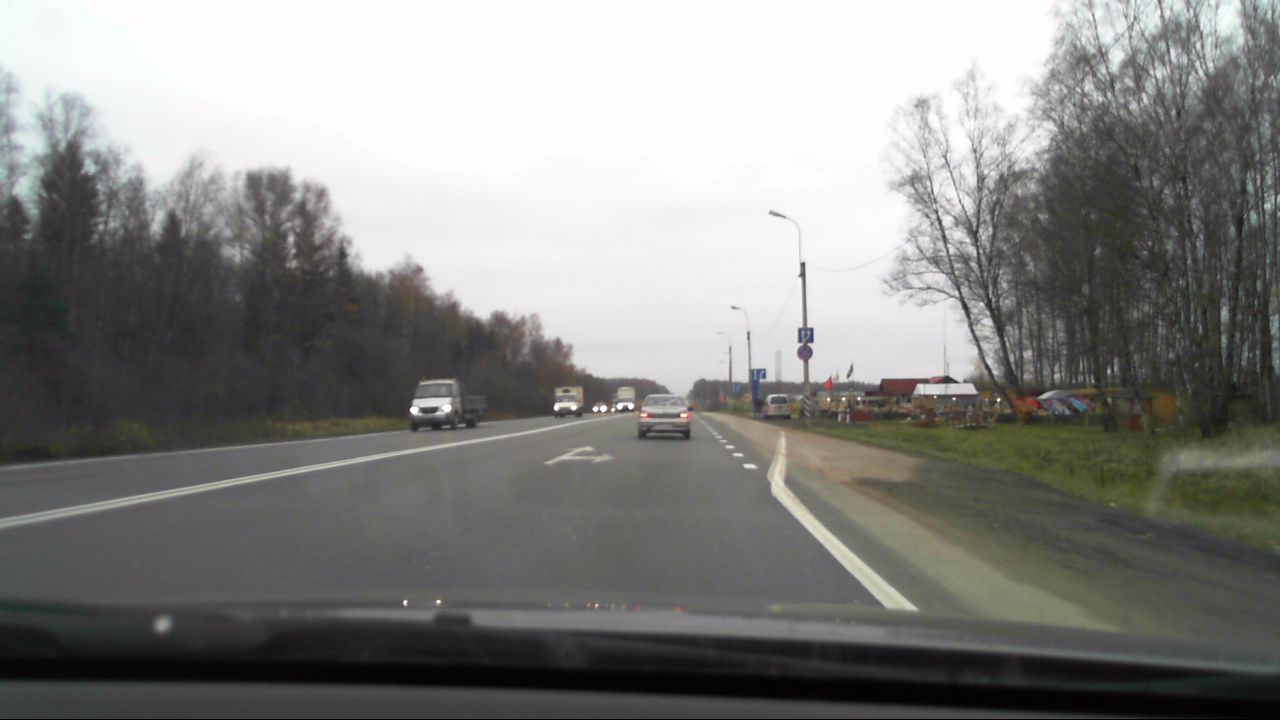No Parking: (796, 344, 814, 361)
